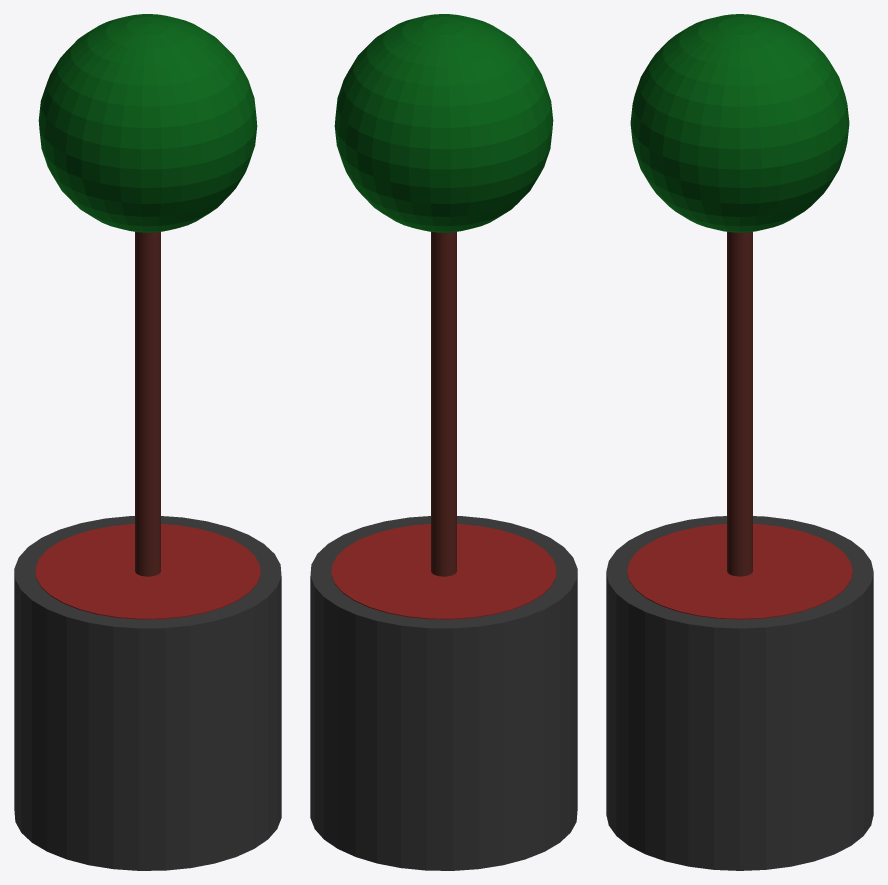
Rendered from Indoor plant.glb.
3 renders of one model, left to right at view 1: azimuth 30°, elevation 25°; view 2: azimuth 150°, elevation 25°; view 3: azimuth 270°, elevation 25°, orthographic.
Visible parts, largest first — view 1: Cylinder, Sphere, Cylinder.002, Cylinder.001; view 2: Cylinder, Sphere, Cylinder.002, Cylinder.001; view 3: Cylinder, Sphere, Cylinder.002, Cylinder.001.
Boxes of the visible parts, left/top/right/bottom form: Cylinder: left=14, top=516, right=281, bottom=870; Sphere: left=38, top=14, right=257, bottom=232; Cylinder.002: left=35, top=524, right=260, bottom=619; Cylinder.001: left=135, top=232, right=160, bottom=576; Cylinder: left=310, top=516, right=577, bottom=870; Sphere: left=334, top=14, right=553, bottom=232; Cylinder.002: left=331, top=524, right=556, bottom=619; Cylinder.001: left=431, top=232, right=456, bottom=576; Cylinder: left=606, top=516, right=873, bottom=870; Sphere: left=630, top=14, right=849, bottom=232; Cylinder.002: left=627, top=524, right=852, bottom=619; Cylinder.001: left=727, top=232, right=752, bottom=576.
Bounding box in the file's own units: 2 × 6.52 × 2.
